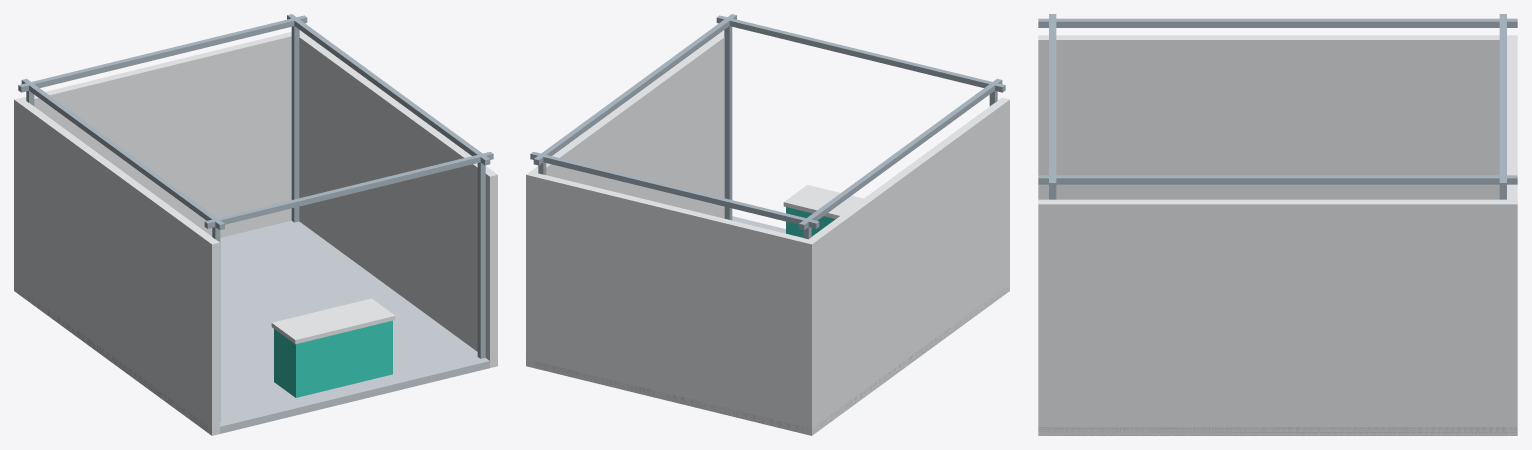
The picture shows the model from 3 angles, left to right: view 1: azimuth 30°, elevation 25°; view 2: azimuth 150°, elevation 25°; view 3: azimuth 270°, elevation 25°; orthographic projection. The views are drawn at different scales.
Parts seen in each view (by area): view 1: Exhibition Booth Concept; view 2: Exhibition Booth Concept; view 3: Exhibition Booth Concept.
Boxes of the visible parts, <box> form: Exhibition Booth Concept: <box>14,14,497,435</box>; Exhibition Booth Concept: <box>526,14,1009,435</box>; Exhibition Booth Concept: <box>1038,14,1517,435</box>.
Size of the model in its own units: 5 by 3.49 by 6.
